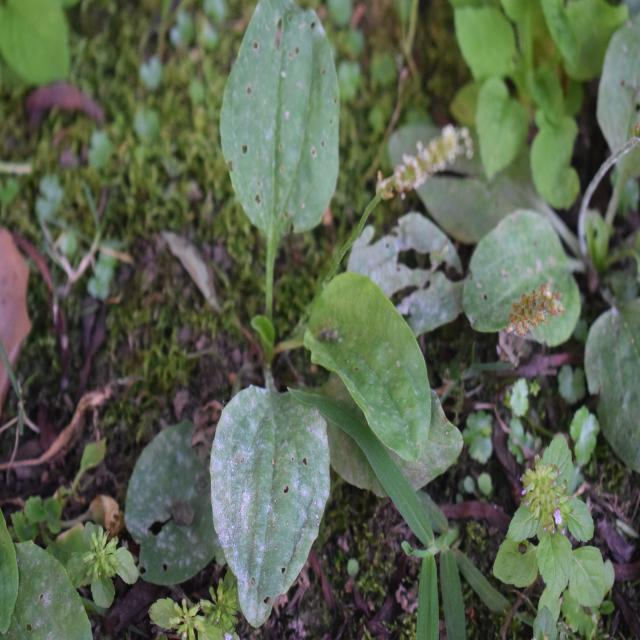plantain: (197, 10, 468, 589)
